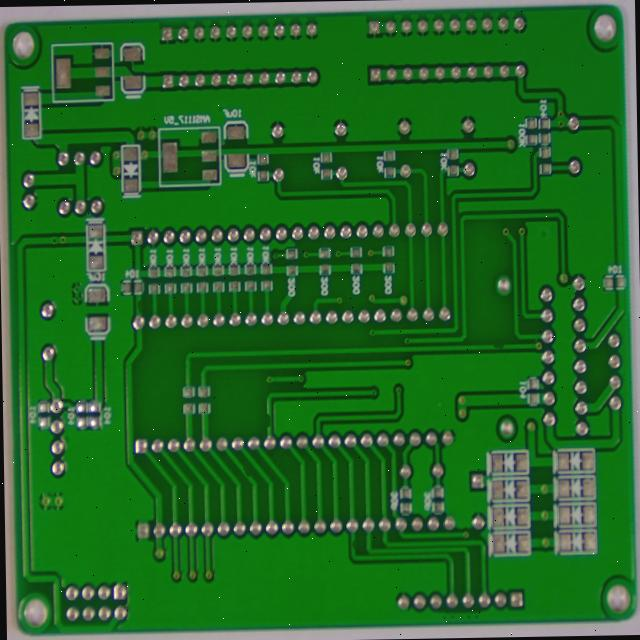mouse_bite: (522, 297, 544, 315), (371, 518, 386, 543), (279, 378, 293, 403), (140, 250, 155, 271), (255, 439, 271, 456)
